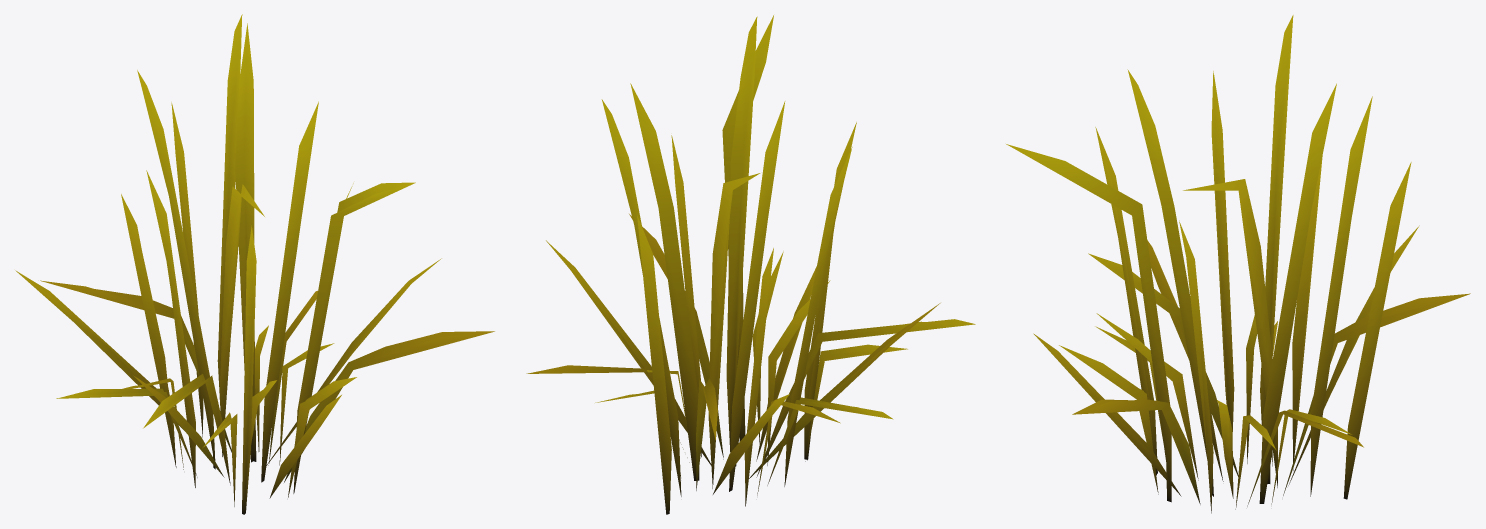
File: grass_wispy_tall.glb
The picture shows the model from 3 angles, left to right: view 1: azimuth 30°, elevation 25°; view 2: azimuth 150°, elevation 25°; view 3: azimuth 270°, elevation 25°; orthographic projection. The views are drawn at different scales.
Visible parts, largest first — view 1: Grass_Wispy_Tall; view 2: Grass_Wispy_Tall; view 3: Grass_Wispy_Tall.
Boxes of the visible parts, x1,y1,x2,y2 form: Grass_Wispy_Tall: (15,14,494,514); Grass_Wispy_Tall: (526,15,975,514); Grass_Wispy_Tall: (1006,15,1470,513).
Bounding box in the file's own units: 1.54 × 1.66 × 1.59.
Materials: 1 (1 with a texture image).
